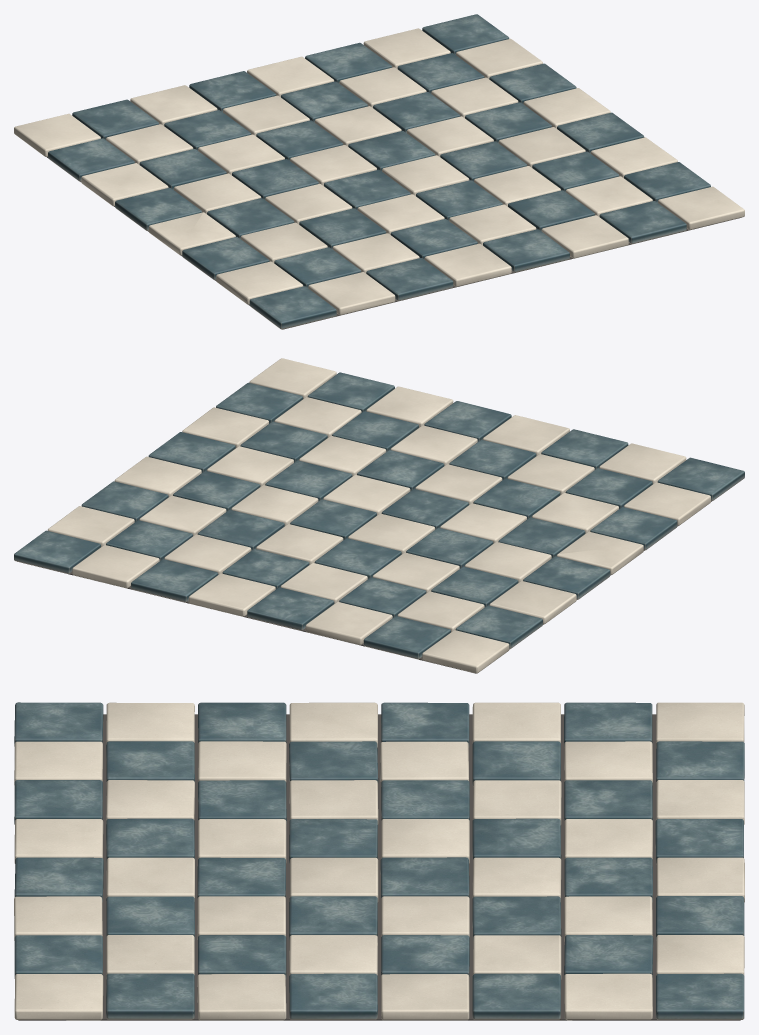
File: board.glb
3 views of the same model, one above another, from view 1: azimuth 30°, elevation 25°; view 2: azimuth 150°, elevation 25°; view 3: azimuth 270°, elevation 25° (orthographic). The views are drawn at different scales.
Parts seen in each view (by area): view 1: a1, b1, f1, d1, e1, g1, h1, c1, a8, a6, a2, a3 (+52 smaller); view 2: a8, d8, g8, b8, e8, h8, c8, f8, a1, a7, a3, a5 (+52 smaller); view 3: Backing, h2, h3, h5, h6, h4, h7, h1, h8, b6, a1, a8 (+53 smaller).
Part boxes in pixels (x1=…): a1: x1=249, y1=286, x2=336, y2=329; b1: x1=308, y1=272, x2=395, y2=315; f1: x1=541, y1=215, x2=628, y2=258; d1: x1=424, y1=243, x2=511, y2=286; e1: x1=483, y1=229, x2=569, y2=272; g1: x1=599, y1=201, x2=686, y2=244; h1: x1=658, y1=186, x2=744, y2=229; c1: x1=366, y1=258, x2=453, y2=301; a8: x1=14, y1=113, x2=100, y2=156; a6: x1=81, y1=163, x2=168, y2=206; a2: x1=216, y1=261, x2=303, y2=304; a3: x1=182, y1=237, x2=269, y2=280; a8: x1=422, y1=630, x2=509, y2=673; d8: x1=247, y1=587, x2=334, y2=630; g8: x1=72, y1=545, x2=159, y2=588; b8: x1=363, y1=616, x2=450, y2=659; e8: x1=188, y1=573, x2=275, y2=616; h8: x1=14, y1=530, x2=100, y2=573; c8: x1=305, y1=602, x2=392, y2=645; f8: x1=131, y1=559, x2=218, y2=602; a1: x1=657, y1=457, x2=744, y2=500; a7: x1=455, y1=605, x2=542, y2=648; a3: x1=590, y1=507, x2=677, y2=550; a5: x1=523, y1=556, x2=610, y2=599; Backing: x1=18, y1=714, x2=740, y2=1020; h2: x1=106, y1=973, x2=194, y2=1019; h3: x1=197, y1=974, x2=286, y2=1020; h5: x1=381, y1=974, x2=469, y2=1020; h6: x1=472, y1=973, x2=560, y2=1019; h4: x1=289, y1=973, x2=377, y2=1019; h7: x1=564, y1=973, x2=652, y2=1020; h1: x1=14, y1=974, x2=103, y2=1020; h8: x1=656, y1=973, x2=744, y2=1019; b6: x1=472, y1=741, x2=560, y2=786; a1: x1=14, y1=702, x2=103, y2=746; a8: x1=656, y1=702, x2=744, y2=747.
Bounding box in the file's own units: 7.99 × 0.1482 × 7.99.
2 materials, 1 textured.
